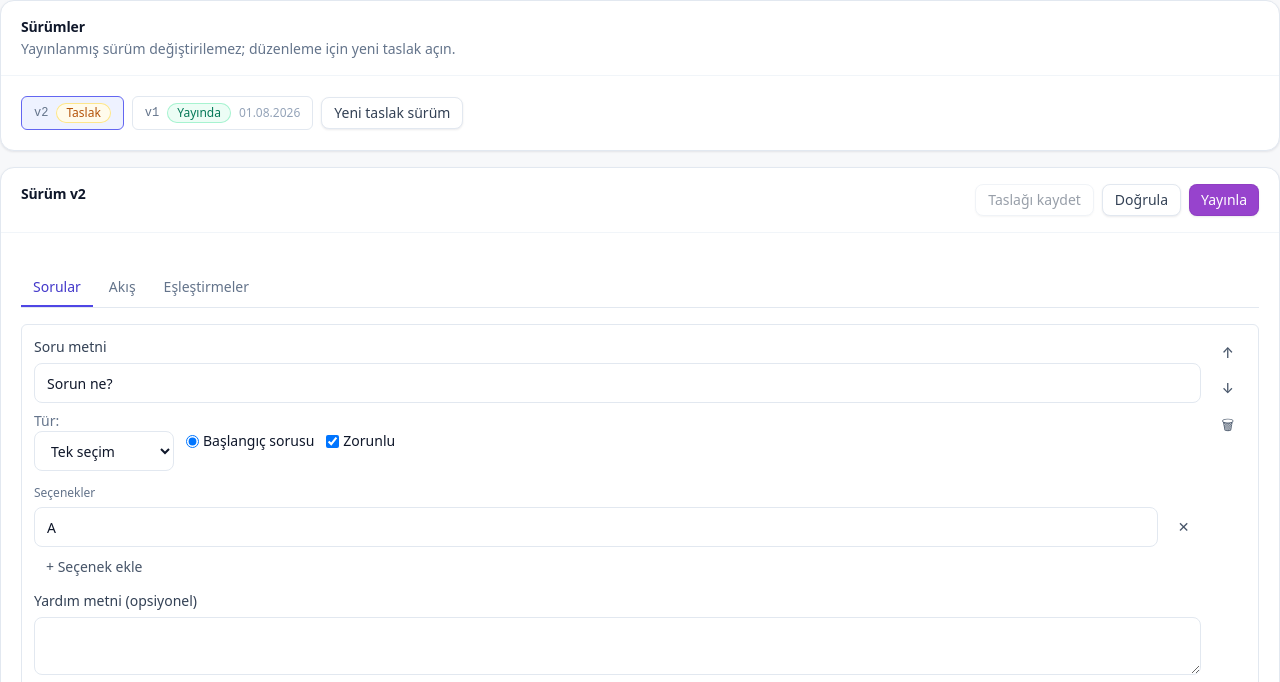
Test case: Question Sets — Platform Admin UI › publishes a draft version
What coordinates should you click on to do the following:
click the button "Yayınla"
I would click on:
 (1224, 200)
Its box is [1189,184,1259,216].
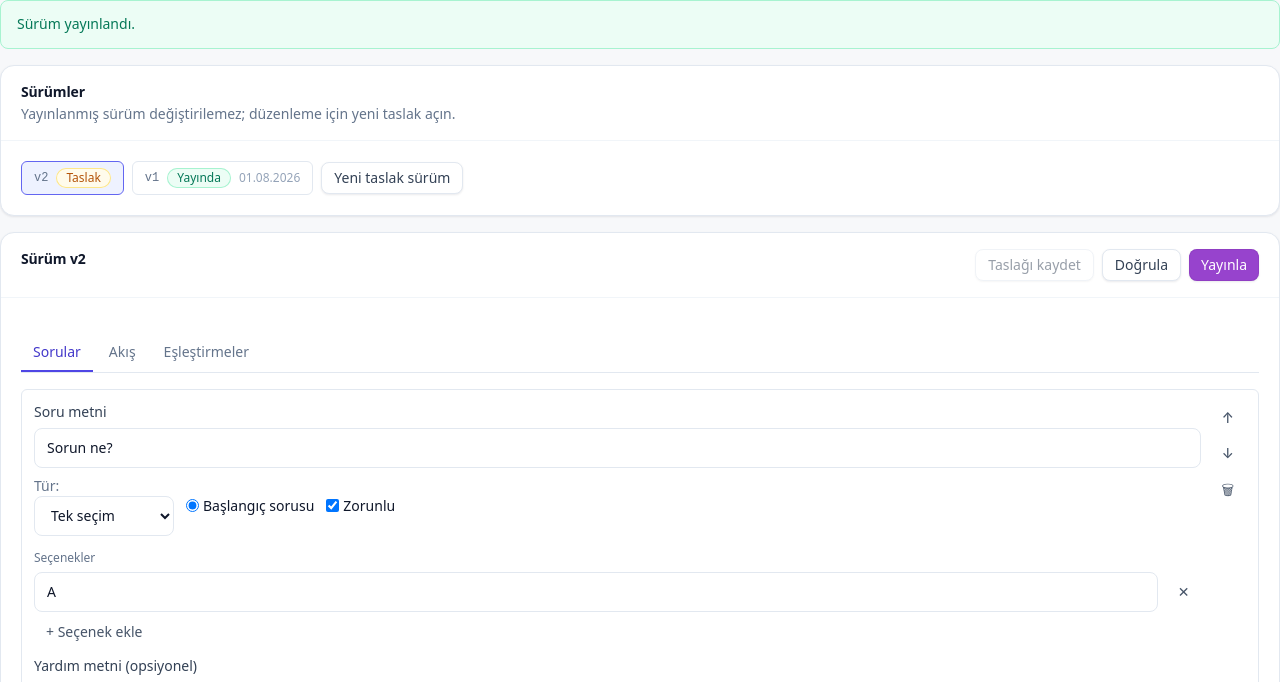
Now the text "Sürüm yayınlandı." is shown, box [17,13,135,36]
